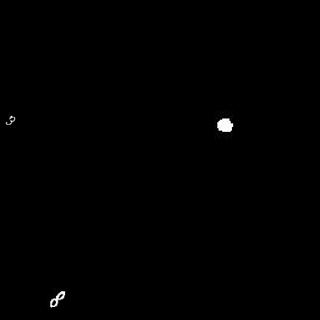dot: (213, 113, 236, 136)
eight: (48, 289, 71, 312)
three: (5, 112, 21, 127)
